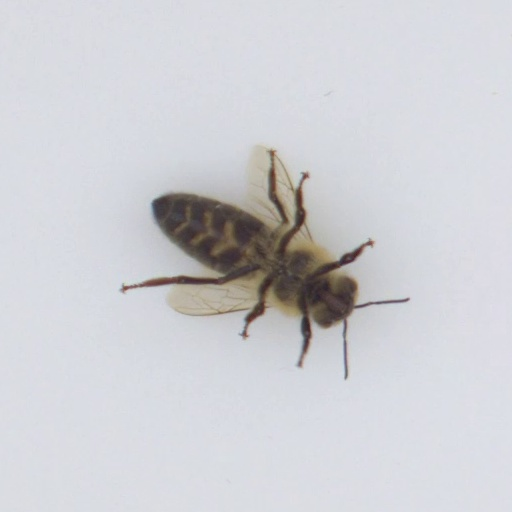Bee: (134, 176, 376, 340)
